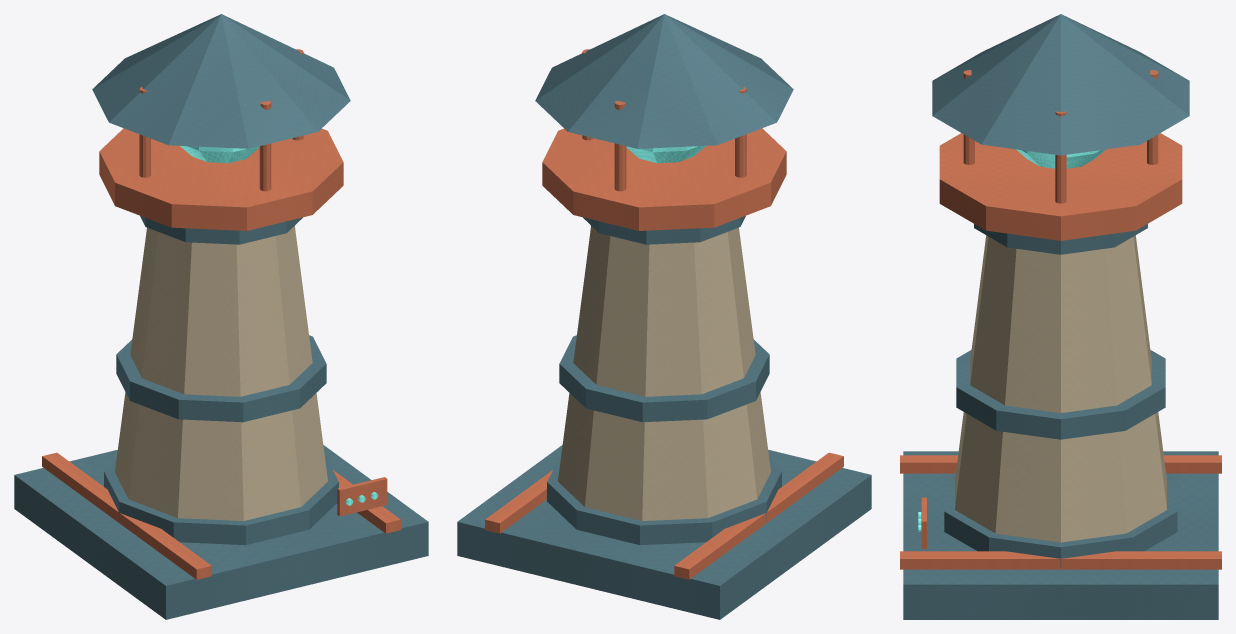
The model's file is atlas100-s049-a01.glb.
The picture shows the model from 3 angles, left to right: view 1: azimuth 30°, elevation 25°; view 2: azimuth 150°, elevation 25°; view 3: azimuth 270°, elevation 25°; orthographic projection. The views are drawn at different scales.
Visible parts, largest first — view 1: atlas100-s049-a01:part-003, atlas100-s049-a01:part-000, atlas100-s049-a01:part-013, atlas100-s049-a01:part-007, atlas100-s049-a01:part-005, atlas100-s049-a01:part-004, atlas100-s049-a01:part-001, atlas100-s049-a01:part-006, atlas100-s049-a01:part-014, atlas100-s049-a01:part-008, atlas100-s049-a01:part-002, atlas100-s049-a01:part-010; view 2: atlas100-s049-a01:part-003, atlas100-s049-a01:part-000, atlas100-s049-a01:part-013, atlas100-s049-a01:part-007, atlas100-s049-a01:part-005, atlas100-s049-a01:part-004, atlas100-s049-a01:part-001, atlas100-s049-a01:part-006, atlas100-s049-a01:part-002, atlas100-s049-a01:part-008, atlas100-s049-a01:part-012; view 3: atlas100-s049-a01:part-003, atlas100-s049-a01:part-013, atlas100-s049-a01:part-000, atlas100-s049-a01:part-007, atlas100-s049-a01:part-005, atlas100-s049-a01:part-004, atlas100-s049-a01:part-002, atlas100-s049-a01:part-001, atlas100-s049-a01:part-006, atlas100-s049-a01:part-008, atlas100-s049-a01:part-009.
Part boxes in pixels (x1,y1,x2,y2): atlas100-s049-a01:part-003: [115, 226, 327, 520]; atlas100-s049-a01:part-000: [14, 445, 428, 619]; atlas100-s049-a01:part-013: [92, 14, 350, 148]; atlas100-s049-a01:part-007: [99, 128, 343, 230]; atlas100-s049-a01:part-005: [116, 335, 326, 422]; atlas100-s049-a01:part-004: [104, 454, 338, 545]; atlas100-s049-a01:part-001: [42, 452, 211, 579]; atlas100-s049-a01:part-006: [140, 216, 302, 244]; atlas100-s049-a01:part-014: [337, 477, 387, 516]; atlas100-s049-a01:part-008: [180, 146, 259, 163]; atlas100-s049-a01:part-002: [333, 470, 400, 533]; atlas100-s049-a01:part-010: [259, 100, 271, 191]; atlas100-s049-a01:part-003: [558, 226, 770, 520]; atlas100-s049-a01:part-000: [457, 445, 871, 619]; atlas100-s049-a01:part-013: [535, 14, 793, 148]; atlas100-s049-a01:part-007: [542, 128, 786, 230]; atlas100-s049-a01:part-005: [559, 335, 769, 422]; atlas100-s049-a01:part-004: [547, 454, 781, 545]; atlas100-s049-a01:part-001: [674, 452, 843, 579]; atlas100-s049-a01:part-006: [583, 216, 745, 244]; atlas100-s049-a01:part-002: [485, 470, 552, 533]; atlas100-s049-a01:part-008: [626, 146, 705, 163]; atlas100-s049-a01:part-012: [614, 100, 626, 191]; atlas100-s049-a01:part-003: [955, 235, 1166, 542]; atlas100-s049-a01:part-013: [932, 14, 1189, 155]; atlas100-s049-a01:part-000: [903, 451, 1218, 619]; atlas100-s049-a01:part-007: [939, 133, 1182, 240]; atlas100-s049-a01:part-005: [956, 350, 1165, 439]; atlas100-s049-a01:part-004: [944, 473, 1177, 567]; atlas100-s049-a01:part-002: [900, 551, 1221, 569]; atlas100-s049-a01:part-001: [900, 455, 1221, 473]; atlas100-s049-a01:part-006: [974, 224, 1147, 254]; atlas100-s049-a01:part-008: [1016, 149, 1105, 168]; atlas100-s049-a01:part-009: [1055, 111, 1066, 203].
Size of the model in its own units: 2.1 by 3.96 by 2.14.
Materials: 4 (4 with a texture image).
